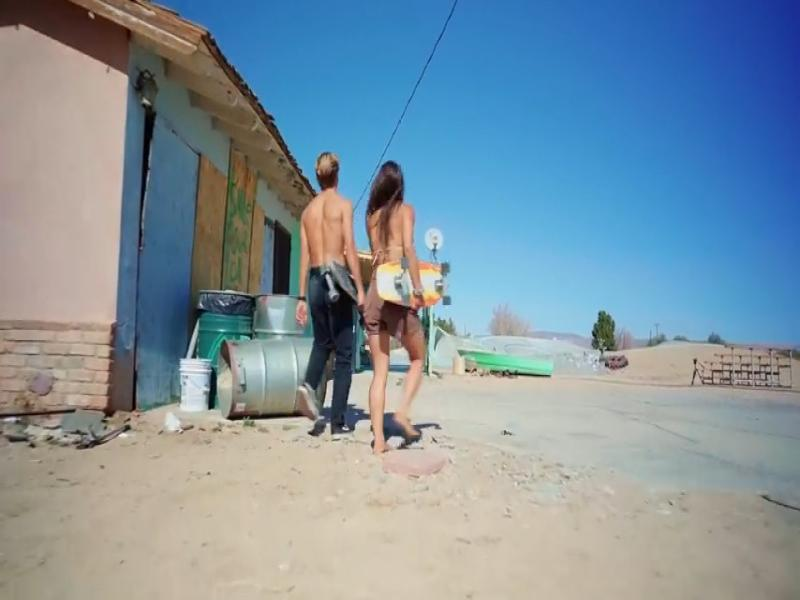person: (297, 152, 366, 439), (364, 161, 425, 453), (377, 261, 412, 305)
skate: (295, 156, 364, 437), (377, 261, 412, 305), (419, 261, 448, 305)
